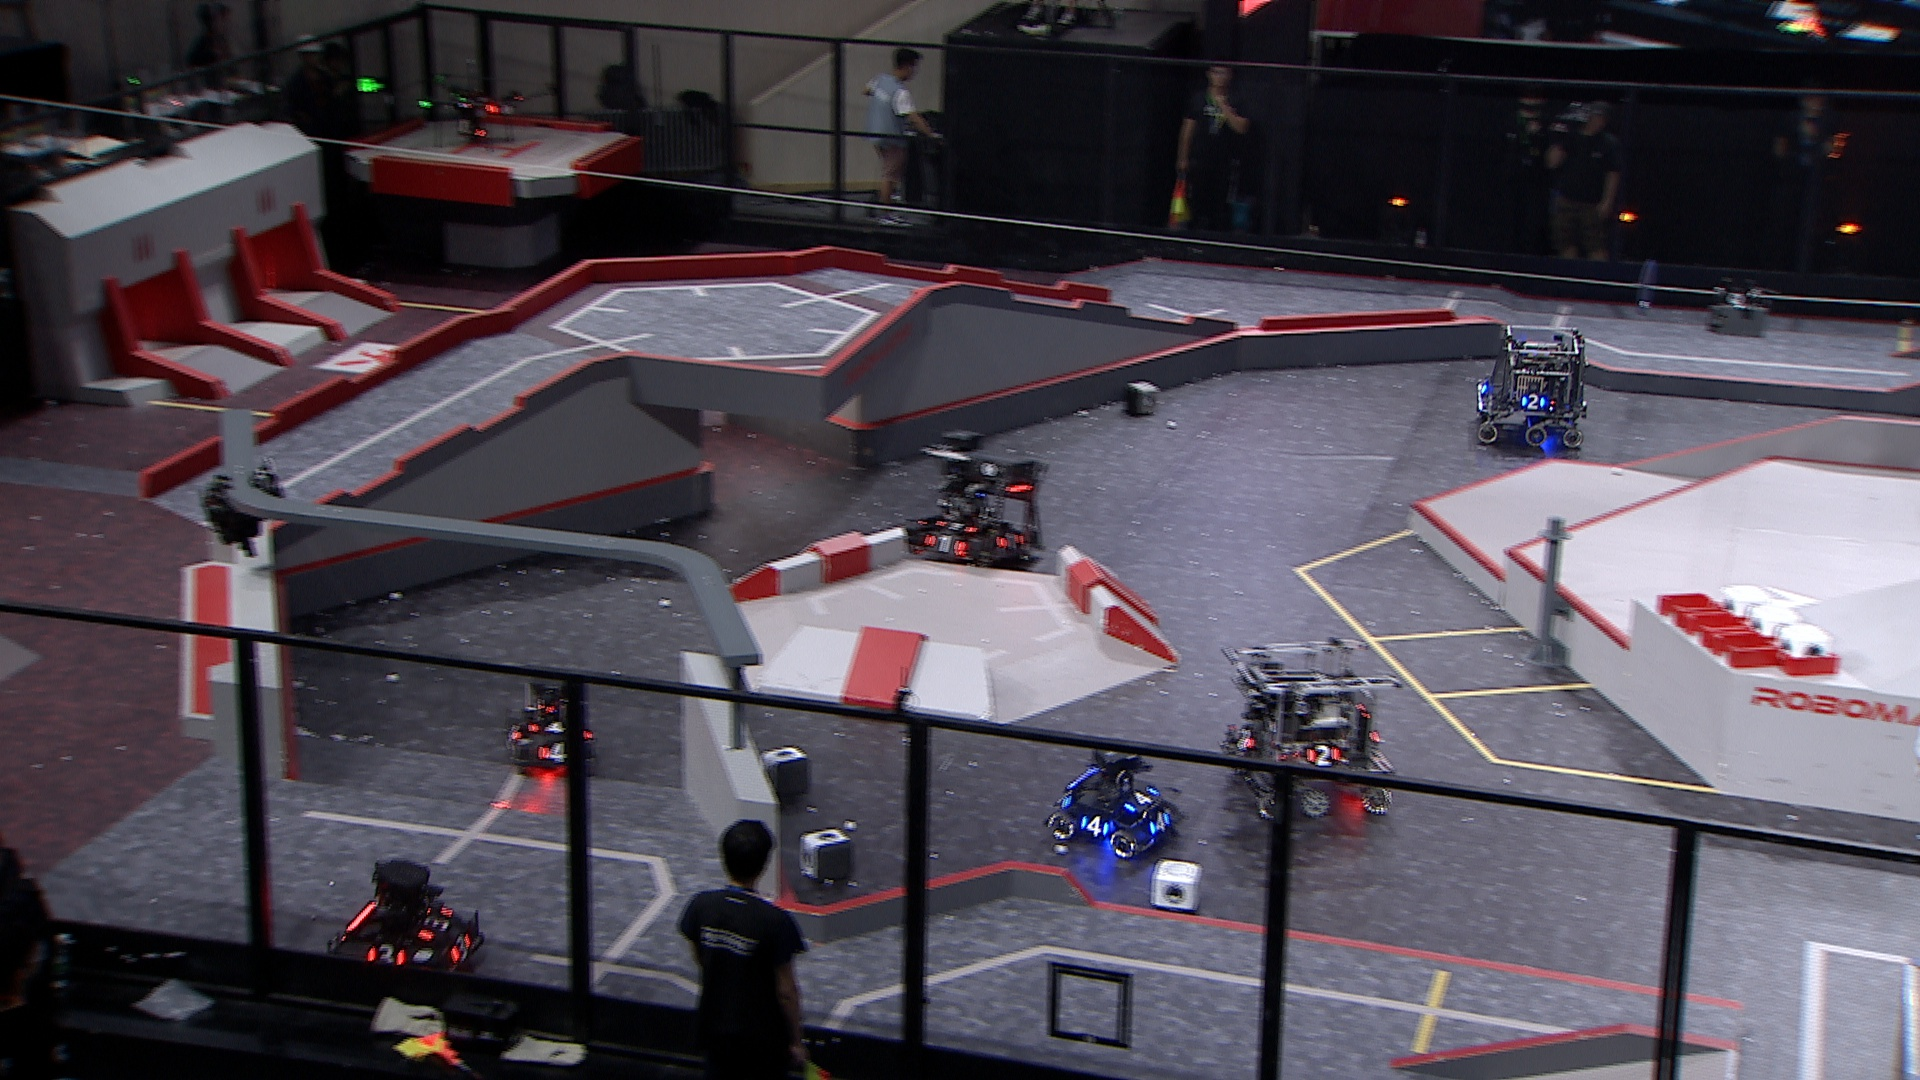armor: (414, 907, 455, 943), (1122, 785, 1162, 814), (363, 944, 410, 967), (1077, 815, 1116, 839), (923, 531, 965, 553), (1304, 745, 1338, 769), (448, 934, 476, 963), (930, 520, 977, 535), (997, 533, 1030, 555), (1145, 808, 1174, 832), (539, 741, 566, 765), (527, 719, 567, 735), (1518, 392, 1547, 413), (1236, 727, 1257, 754), (502, 723, 526, 746)
car: (1218, 632, 1400, 818), (899, 429, 1051, 571), (320, 858, 487, 986), (1040, 741, 1187, 862), (1474, 323, 1594, 450), (495, 666, 604, 774)
watcher: (196, 458, 289, 562)
